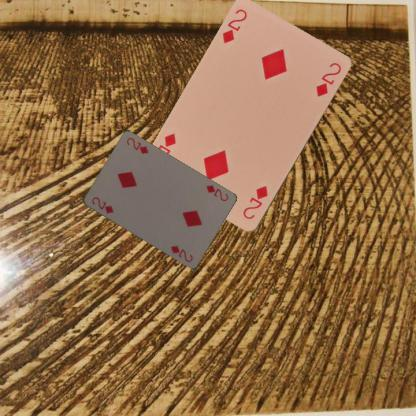2d: (219, 6, 249, 45), (240, 183, 270, 221), (89, 194, 115, 215), (203, 182, 229, 203)
